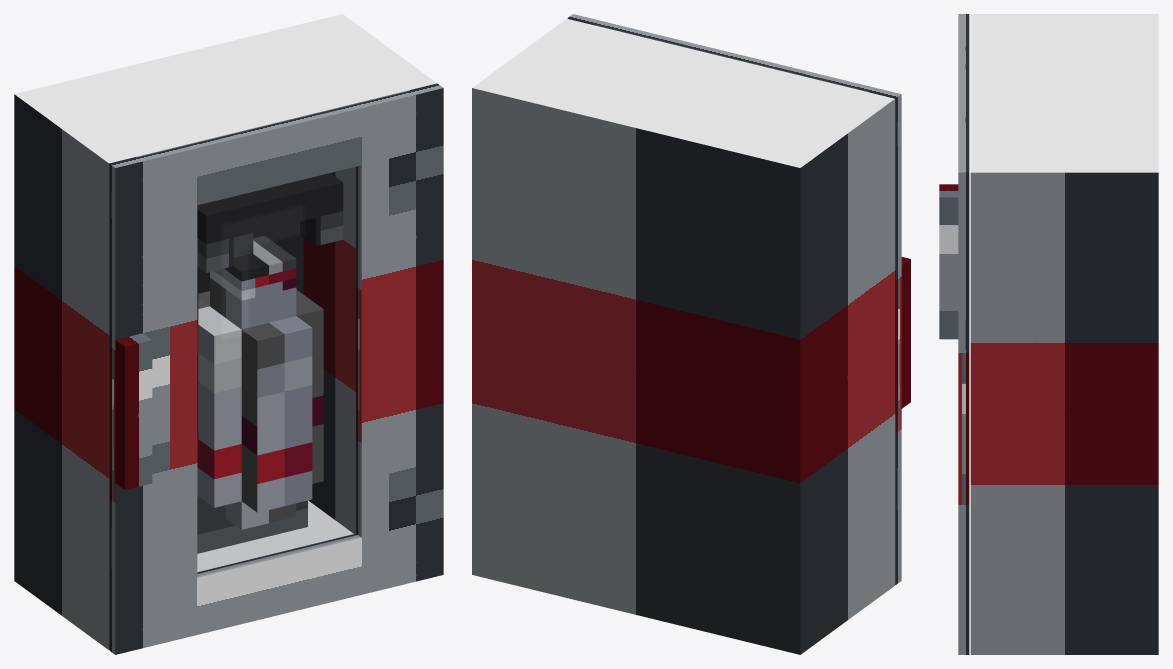
File: extinguisher_cabinet_mini_closed.glb
3 views of the same model, side by side, from view 1: azimuth 30°, elevation 25°; view 2: azimuth 150°, elevation 25°; view 3: azimuth 270°, elevation 25° (orthographic).
Visible parts, largest first — view 1: Door_Frame, Lined_Cabinet, Window_Glass, Stepped_Cylinder, Trigger_Handle, Door_Handle, Valve_Neck, Bottom_Cradle, Stepped_Hose; view 2: Lined_Cabinet, Door_Frame, Door_Handle; view 3: Lined_Cabinet, Door_Frame, Door_Handle.
Part boxes in pixels (box(x1,y1,x2,y2)): Door_Frame: box(110, 84, 443, 654); Lined_Cabinet: box(14, 14, 437, 650); Window_Glass: box(198, 166, 359, 574); Stepped_Cylinder: box(197, 278, 323, 529); Trigger_Handle: box(197, 173, 343, 272); Door_Handle: box(115, 333, 152, 489); Valve_Neck: box(210, 235, 296, 300); Bottom_Cradle: box(197, 496, 307, 553); Stepped_Hose: box(197, 233, 253, 439); Lined_Cabinet: box(472, 18, 895, 654); Door_Frame: box(567, 14, 901, 584); Door_Handle: box(901, 257, 910, 408); Lined_Cabinet: box(970, 14, 1158, 654); Door_Frame: box(958, 14, 969, 654); Door_Handle: box(939, 184, 958, 339).
Bounding box in the file's own units: 0.3375 × 0.4781 × 0.1969.
2 materials, 2 textured.
